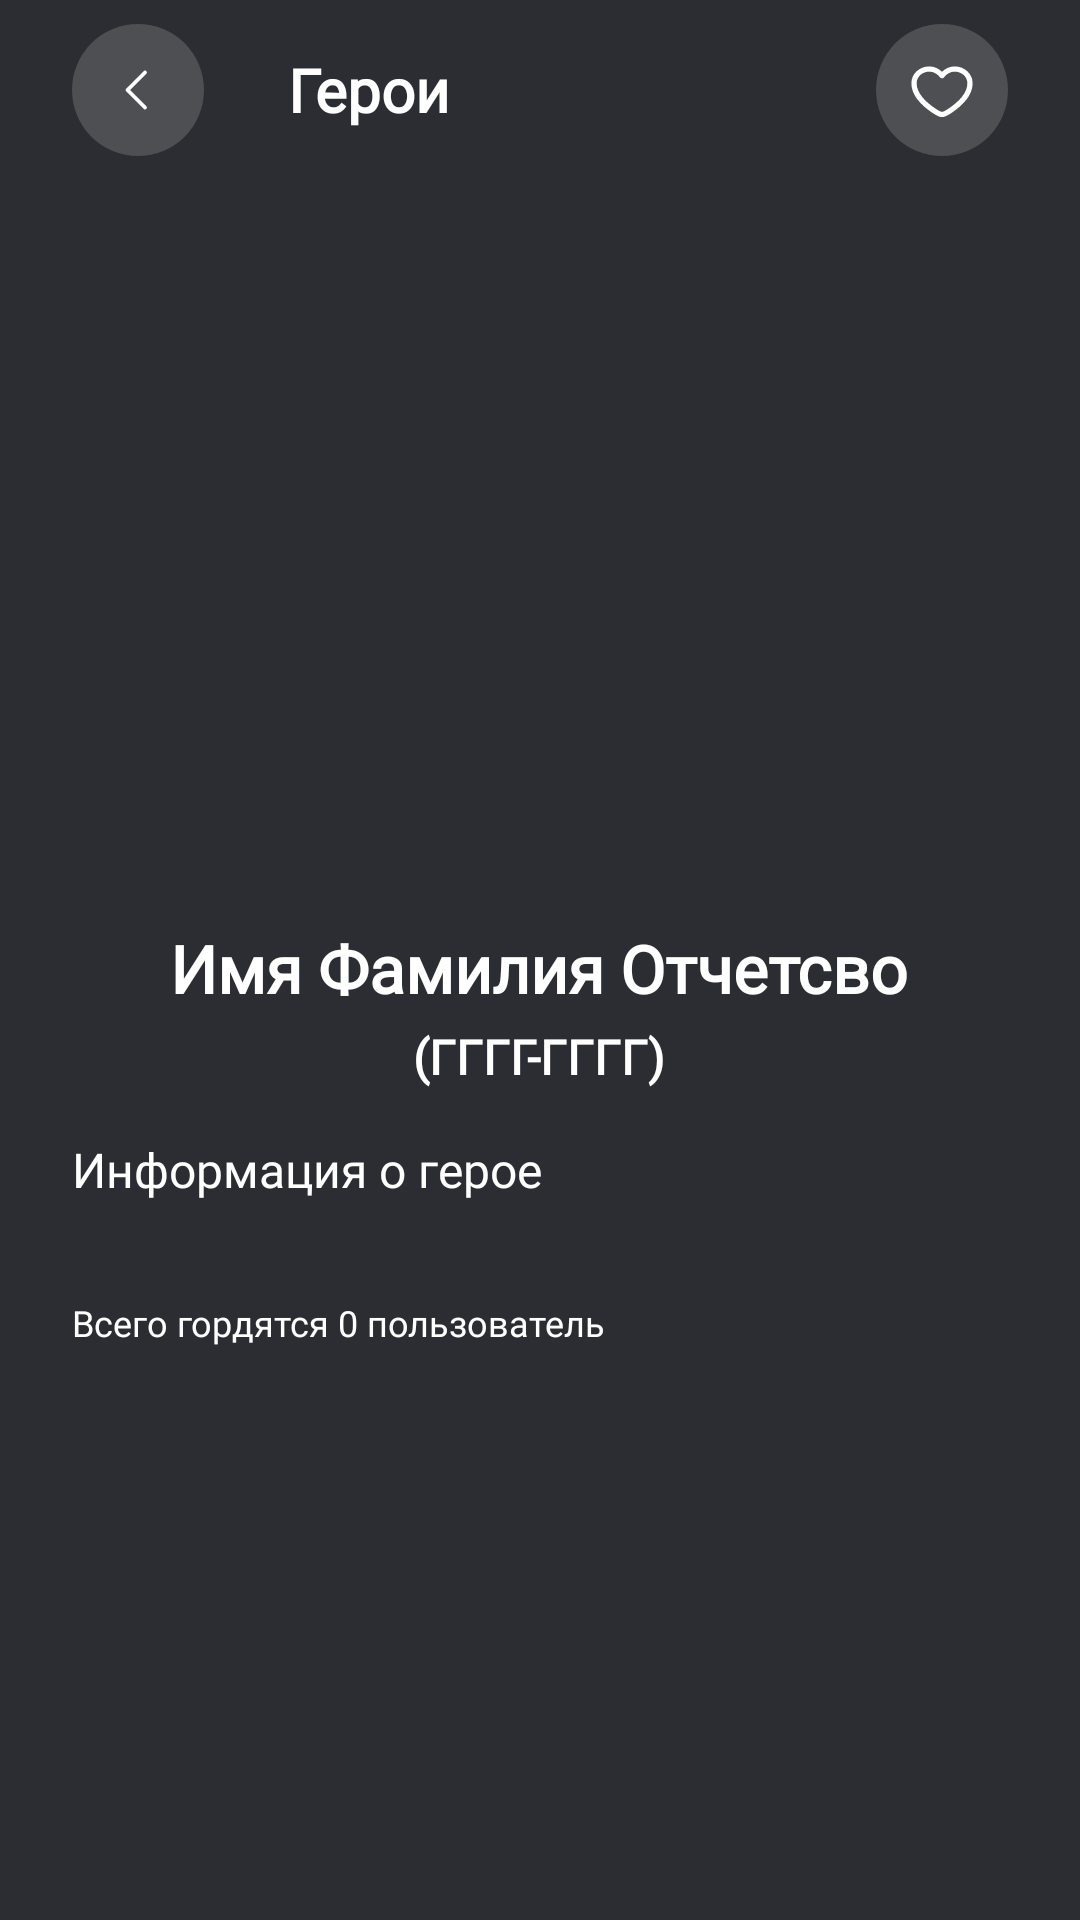

Screen size 1080px×1920px. Icon name, then its box in pixels as (x1, y1, x2, y2):
heart: (876, 24, 1008, 156)
left arrow: (72, 24, 204, 156)
